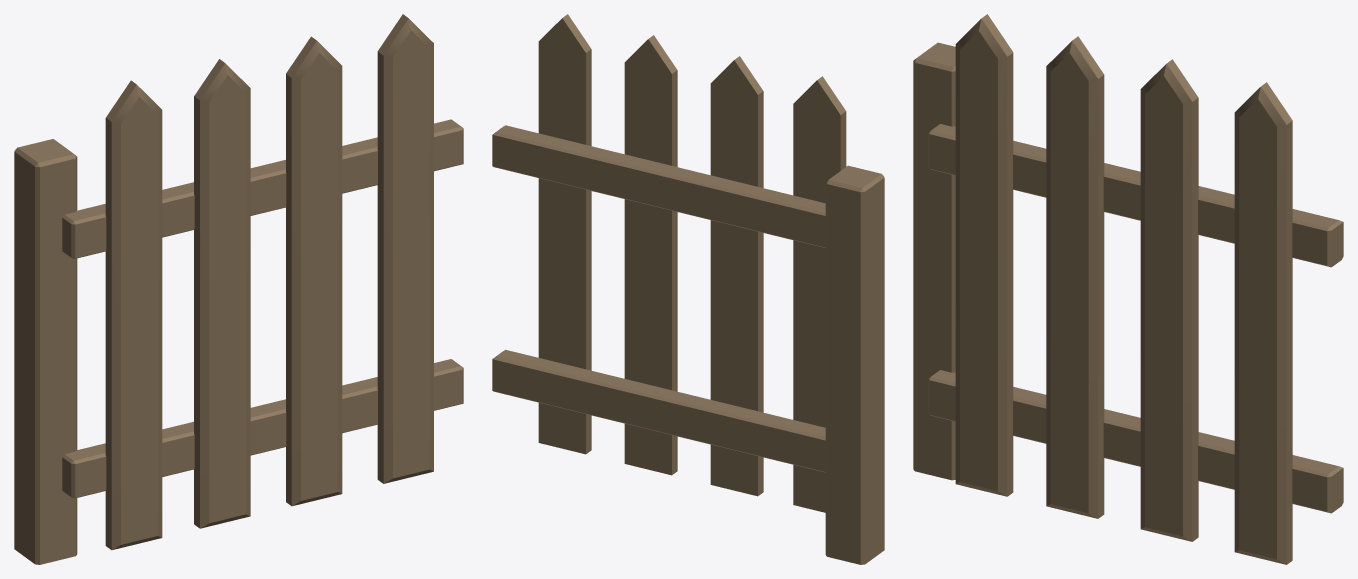
The model's file is WoodenPicketFence_FBX.fbx.
3 views of the same model, side by side, from view 1: azimuth 30°, elevation 25°; view 2: azimuth 150°, elevation 25°; view 3: azimuth 330°, elevation 25° (orthographic). The views are drawn at different scales.
Parts seen in each view (by area): view 1: pCube39; view 2: pCube39; view 3: pCube39.
Part boxes in pixels (x1,y1,x2,y2): pCube39: (14, 14, 463, 564); pCube39: (492, 14, 884, 564); pCube39: (913, 14, 1343, 564).
Bounding box in the file's own units: 99.24 × 107 × 17.64.
